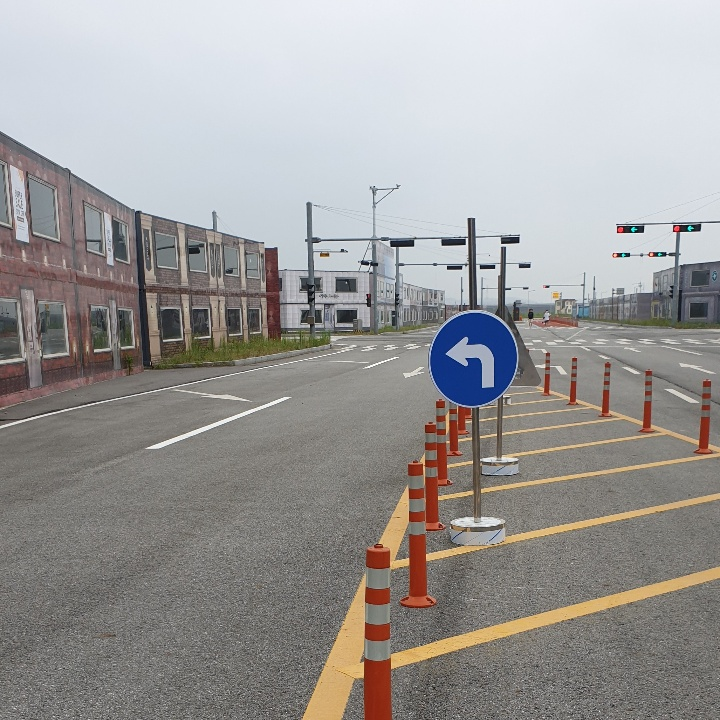left: (441, 333, 503, 394)
